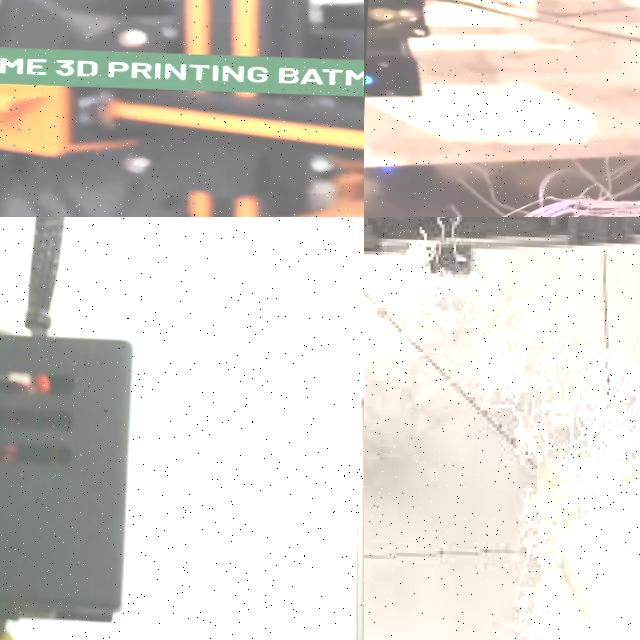spaghetti: (364, 246, 640, 640), (364, 144, 640, 217)
